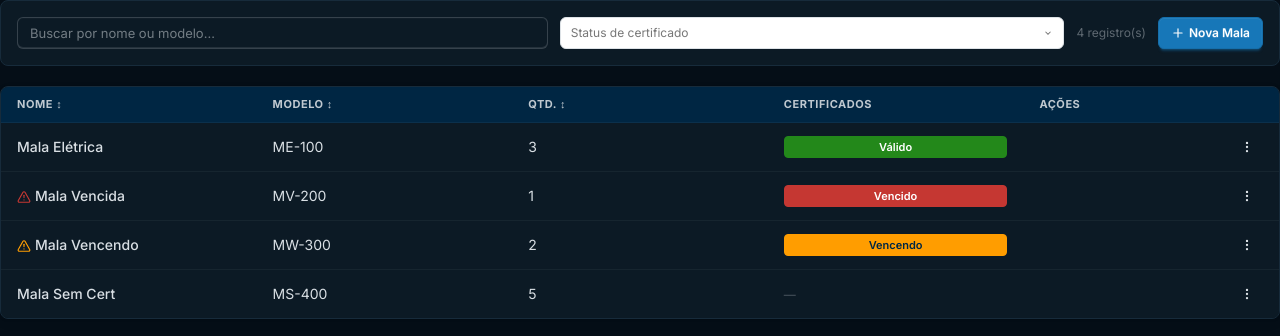
Scenario: filters by certificate status using MultiSelect
Click the button "Status de certificado" at (630, 32), box [560, 17, 1064, 49]
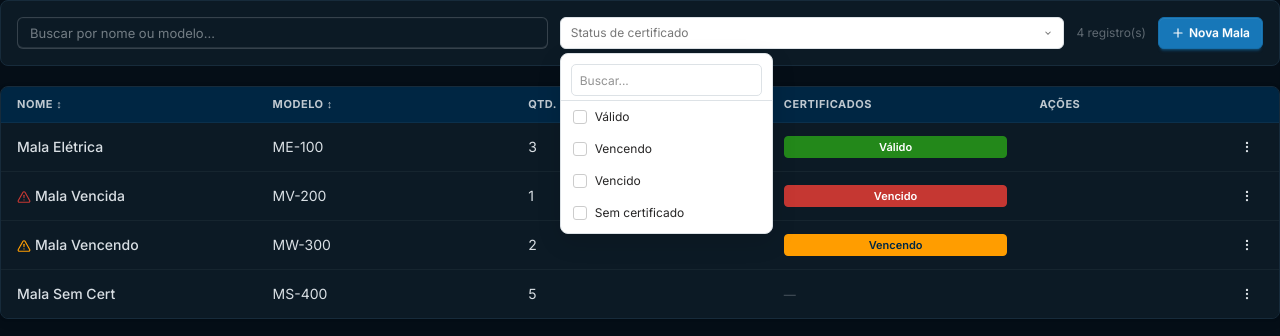
Click the text "Vencido" at (607, 180), box [573, 173, 641, 188]
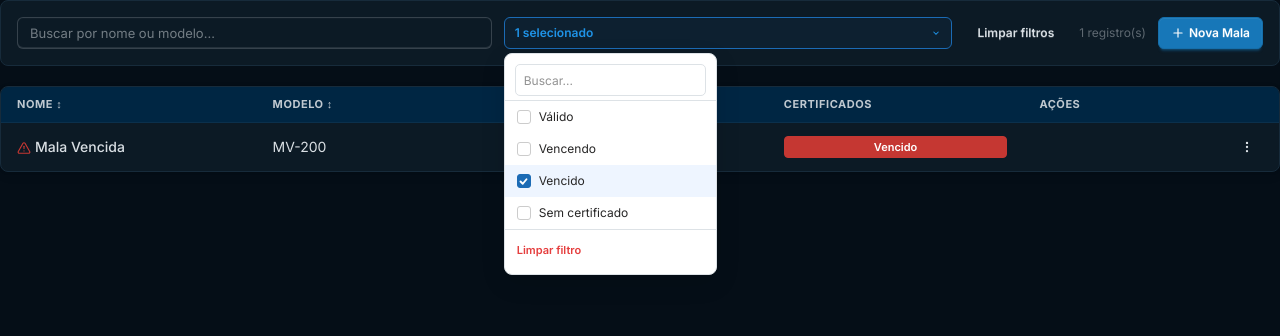
Expected: the text "Mala Vencida" is shown, [17, 138, 125, 155]
Now the button "Mala Elétrica" is gone
